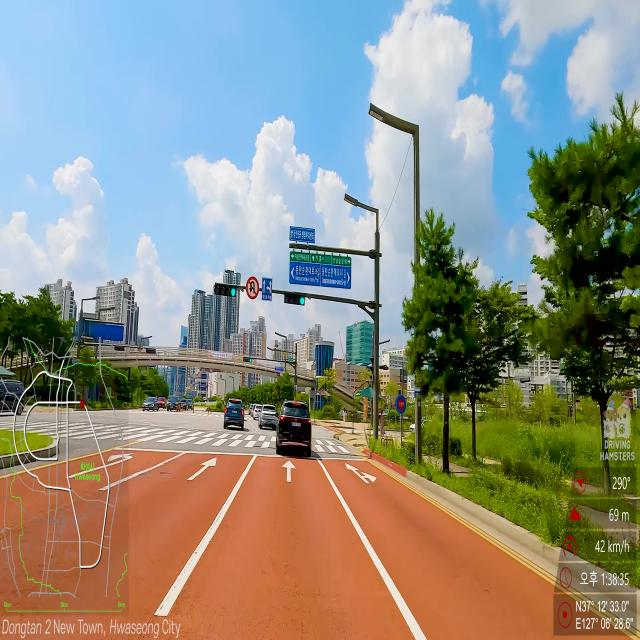Green Light: (230, 287, 236, 297), (300, 296, 304, 305), (250, 358, 252, 362)
